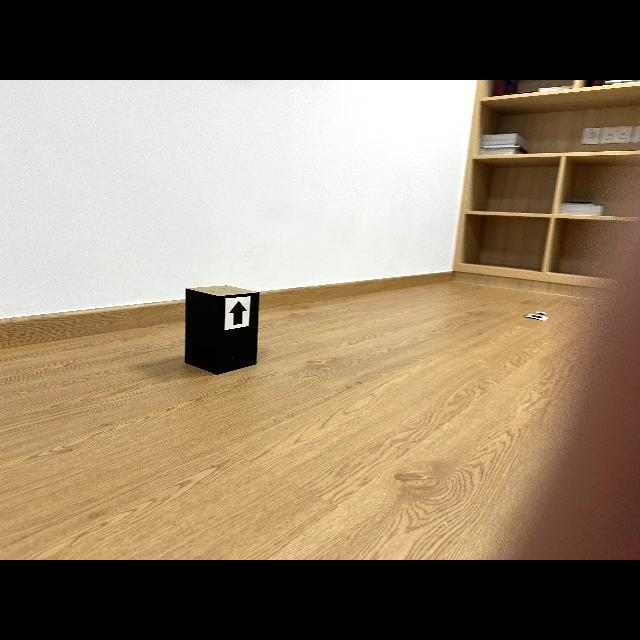UP: (229, 301, 248, 325)
